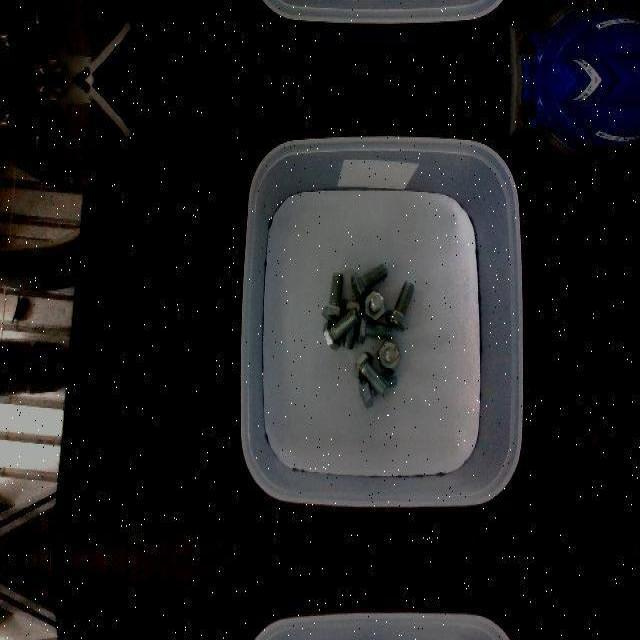screw: (352, 350, 390, 396), (324, 307, 361, 349), (386, 280, 415, 330), (351, 262, 388, 300), (378, 339, 401, 369), (365, 291, 385, 321)
